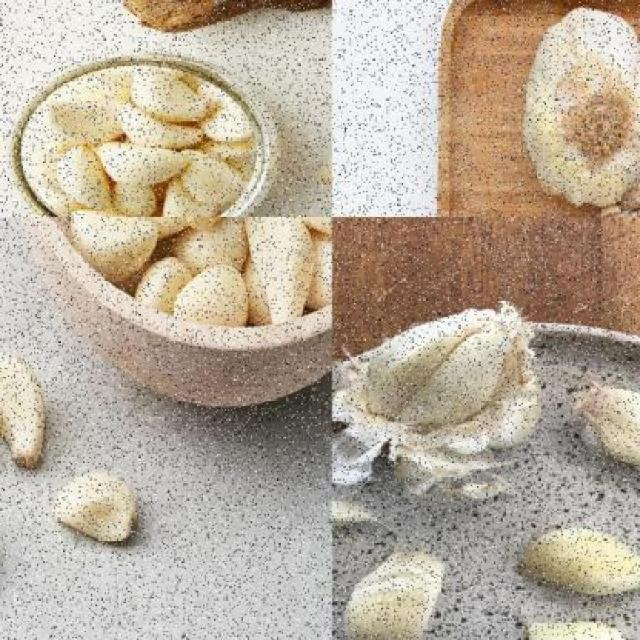garlic: (28, 70, 262, 216), (47, 218, 335, 332), (350, 307, 542, 455), (520, 4, 638, 213), (387, 329, 512, 433), (343, 550, 452, 639), (519, 527, 639, 596), (568, 382, 640, 476), (50, 470, 141, 544), (0, 348, 48, 470), (128, 62, 218, 121), (174, 267, 254, 328), (96, 143, 193, 190), (49, 92, 128, 148), (332, 496, 390, 556), (526, 618, 628, 640)
